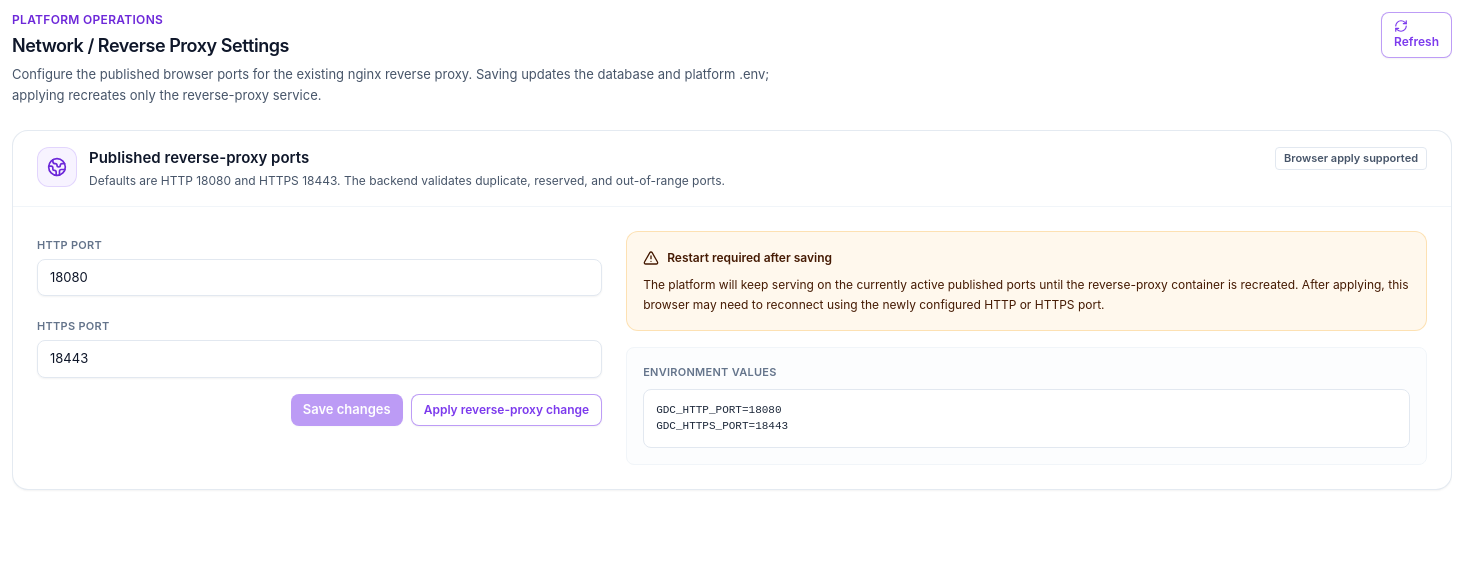
AdminNetworkSettingsPage › renders backend validation errors cleanly
Replace the text in the field labelled "HTTP Port" with "8000". click: [320, 278]
box: x1=37 y1=259 x2=602 y2=296
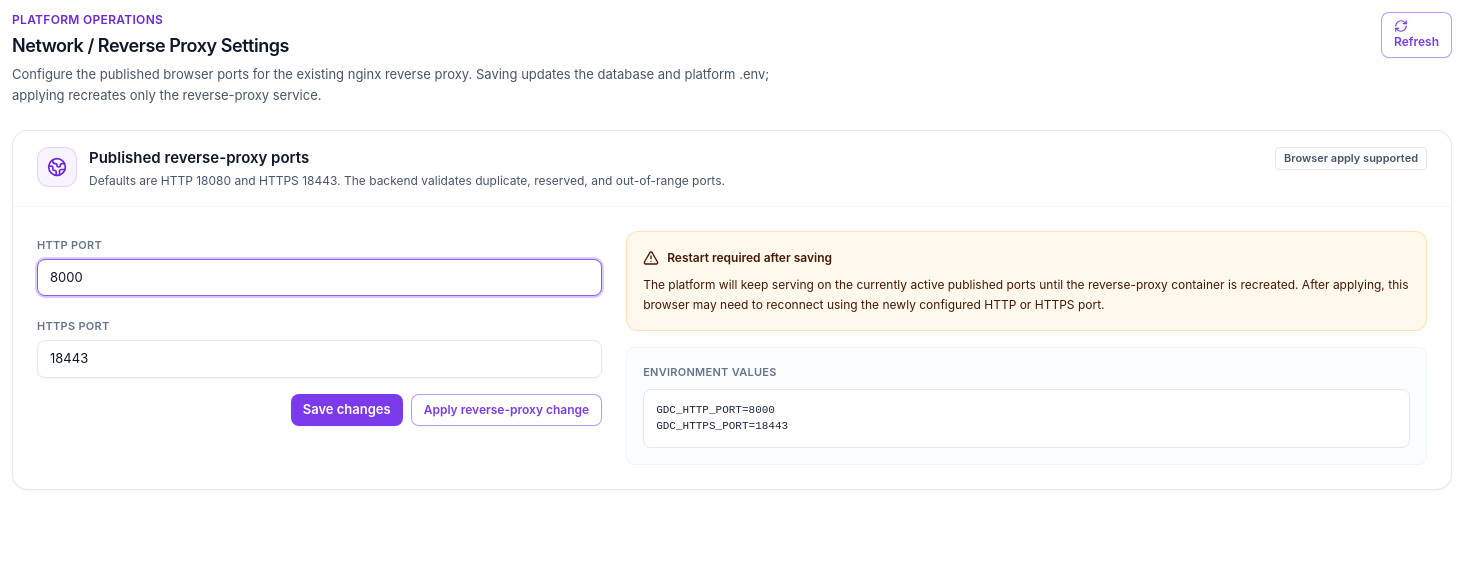
Click the button "Save changes". click: [347, 410]
box: x1=291 y1=394 x2=403 y2=426
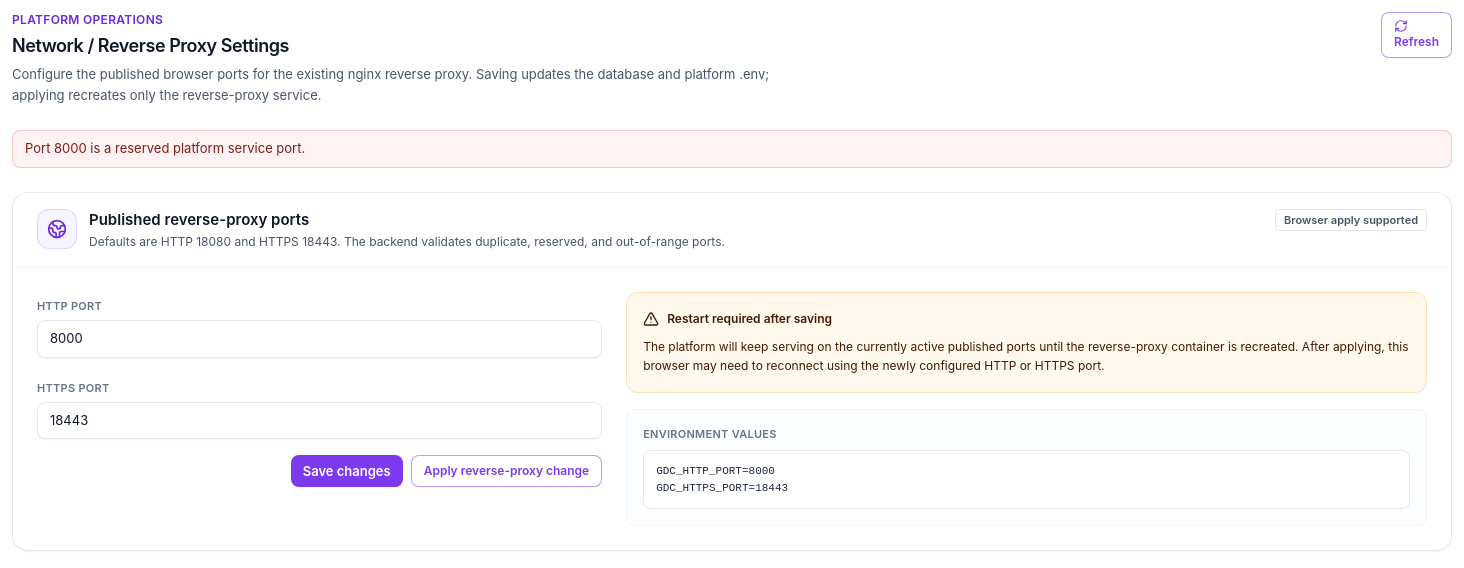
Expected: the message reads "Port 8000 is a reserved platform service port.", x1=25 y1=140 x2=305 y2=156
